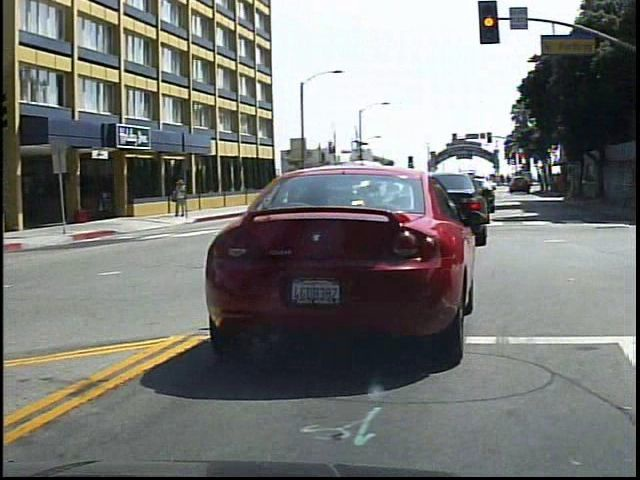person: (172, 176, 192, 222)
